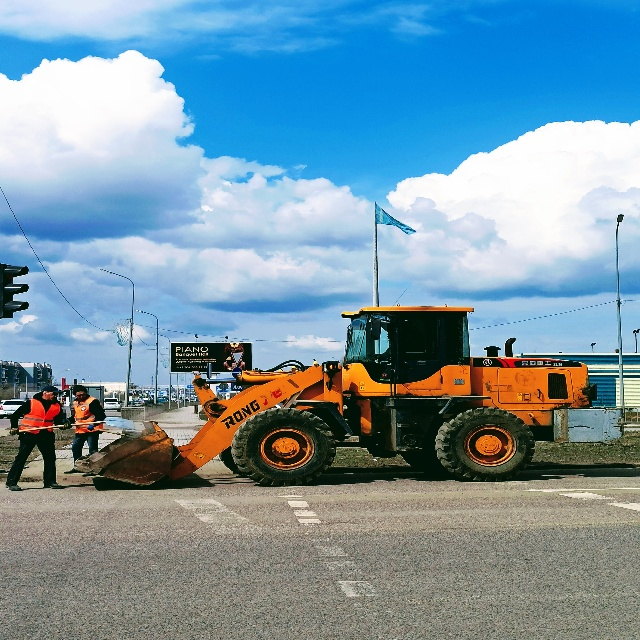Guantes: (9, 427, 18, 436), (62, 423, 72, 430), (87, 424, 94, 431)
